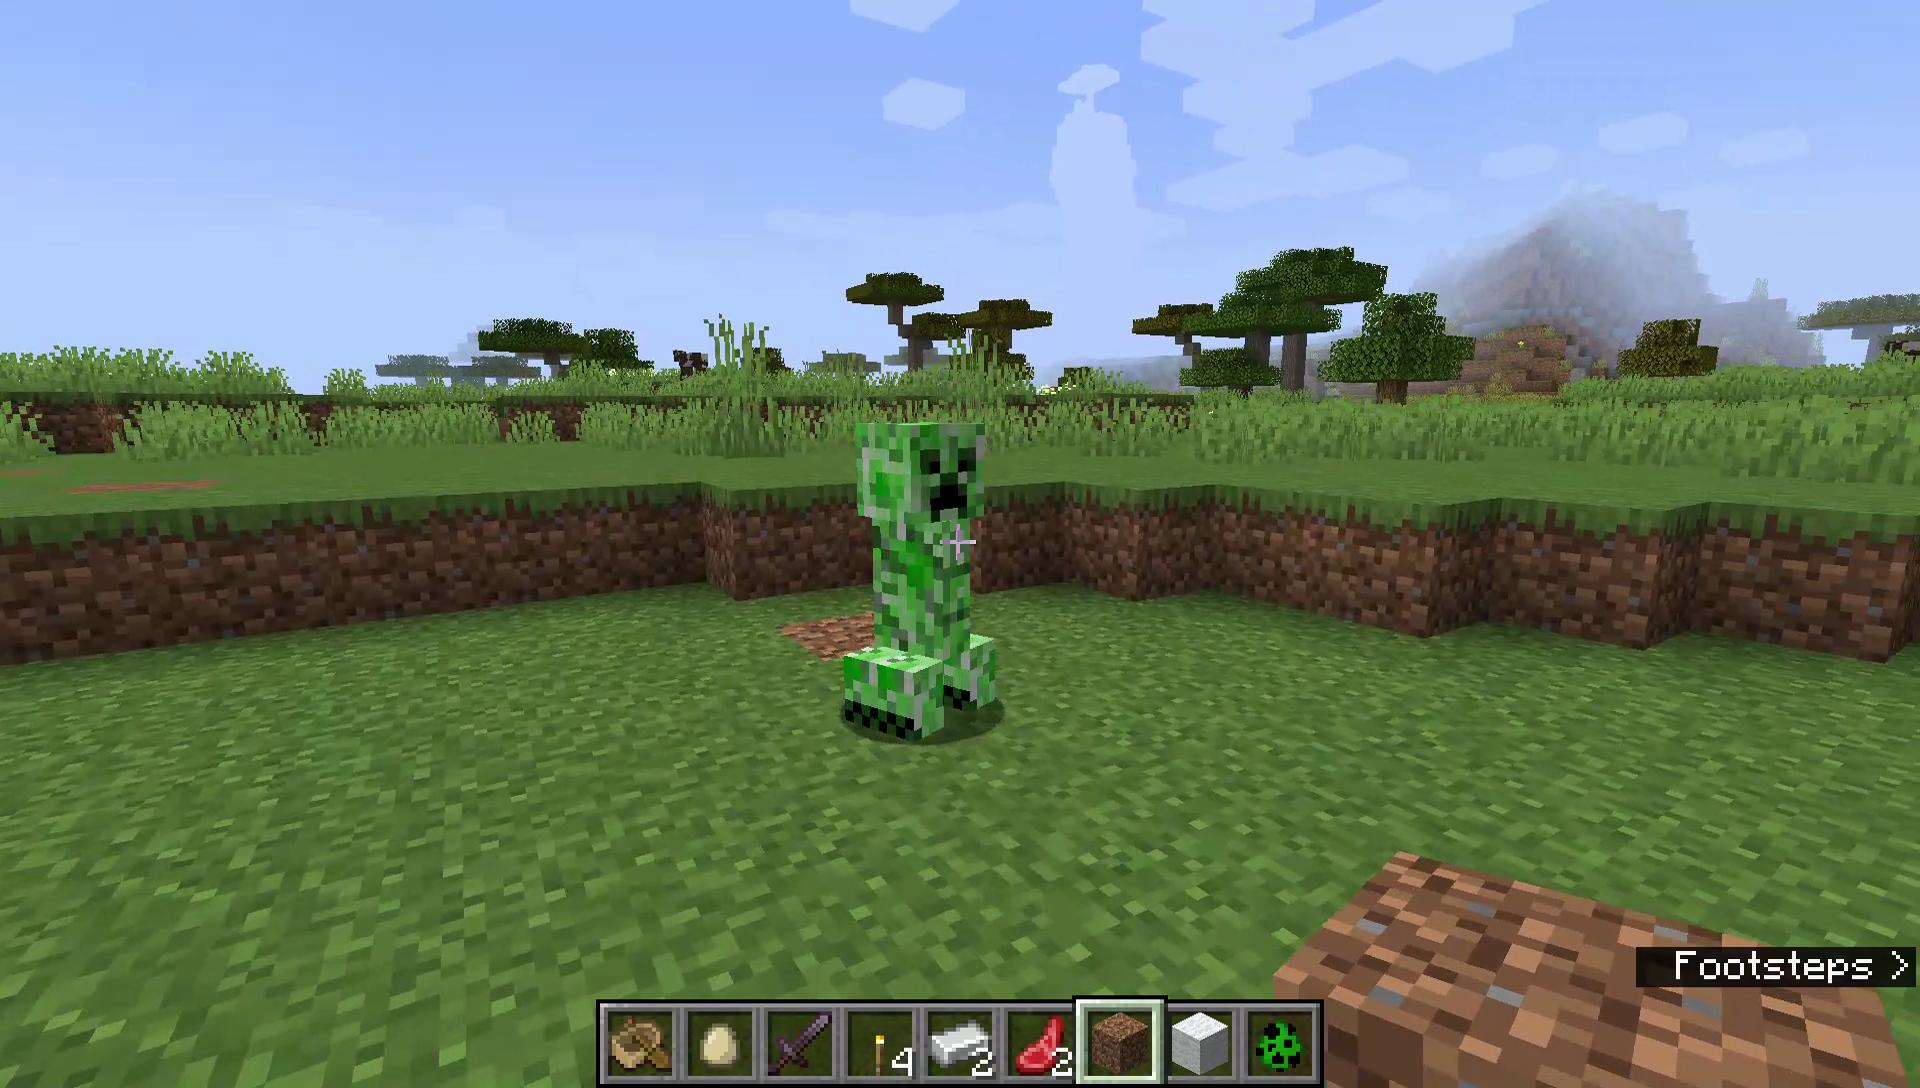creeper: (837, 408, 1006, 750)
